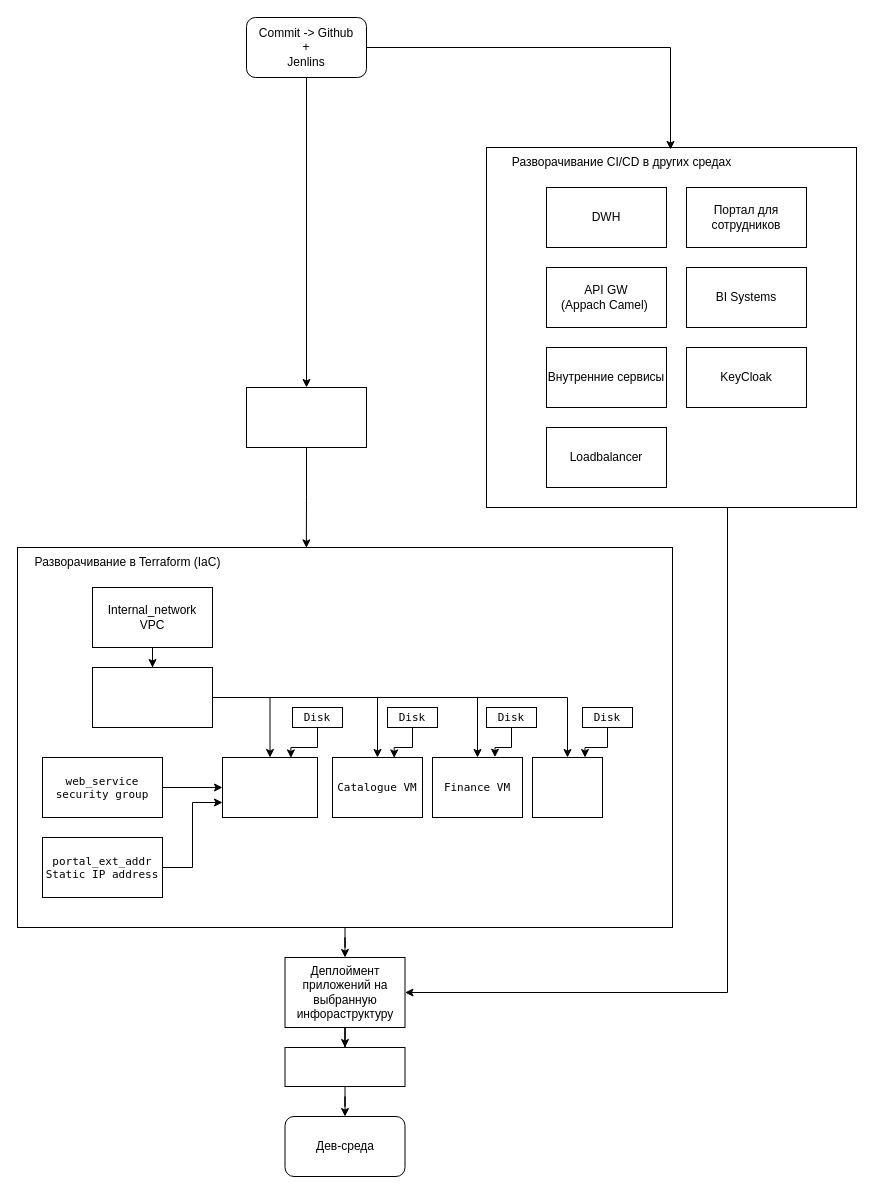
The diagram is 874 pixels wide and 1194 high, and some of its shapes have lost their labels. The shapes that lost their labels are listed below. From the top down, each one's box as (x1, y1, x2, y2) in pixels, then its label:
(246, 386, 366, 448): Terraform Plan/Apply
(92, 666, 212, 728): internal-subnet-a ( "192.168.1.0/28")
(222, 756, 318, 818): Portal VM
(532, 756, 602, 818): Nifi VM
(284, 1046, 405, 1086): Smoke Testing
